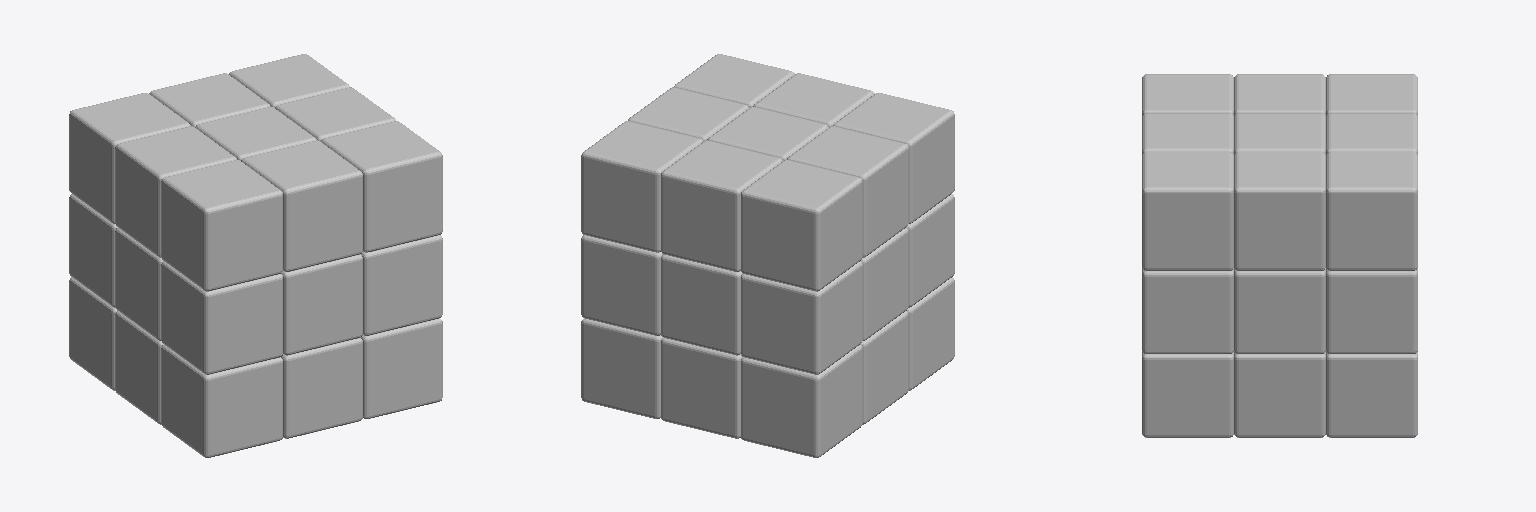
Rendered from rubiks_cube.obj.
The picture shows the model from 3 angles: view 1: azimuth 30°, elevation 25°; view 2: azimuth 150°, elevation 25°; view 3: azimuth 270°, elevation 25°; orthographic projection.
Parts seen in each view (by area): view 1: Rubix_Cube_Cube.001; view 2: Rubix_Cube_Cube.001; view 3: Rubix_Cube_Cube.001.
Part boxes in pixels (x1,y1,x2,y2): Rubix_Cube_Cube.001: (69, 54, 442, 457); Rubix_Cube_Cube.001: (581, 54, 954, 457); Rubix_Cube_Cube.001: (1142, 74, 1417, 437).
Size of the model in its own units: 6 by 6 by 6.